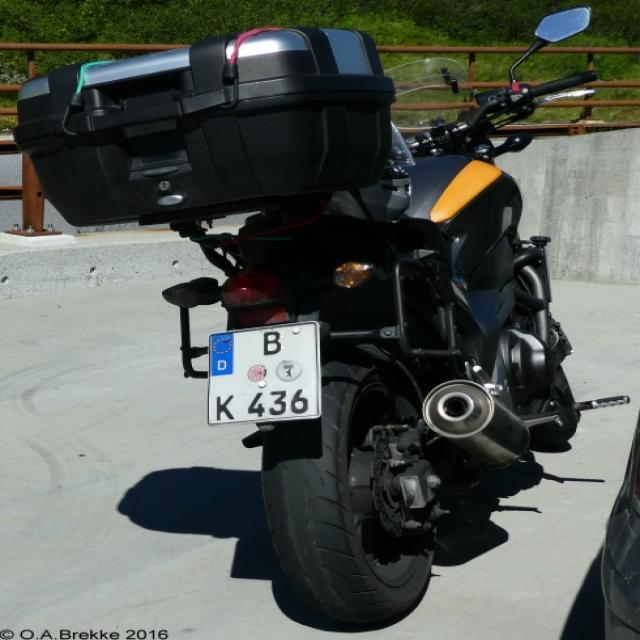License_Plate: (208, 320, 324, 426)
